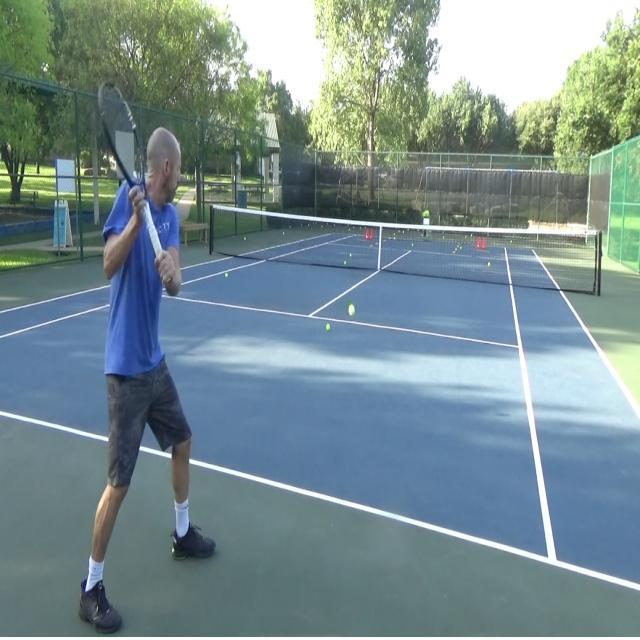court: (0, 250, 639, 624)
net: (197, 190, 611, 316)
player: (67, 70, 222, 640)
